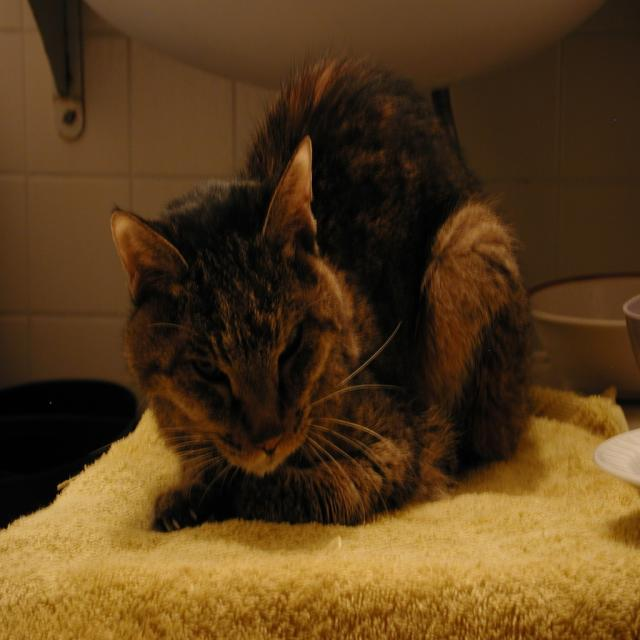Cat: (106, 46, 531, 533)
